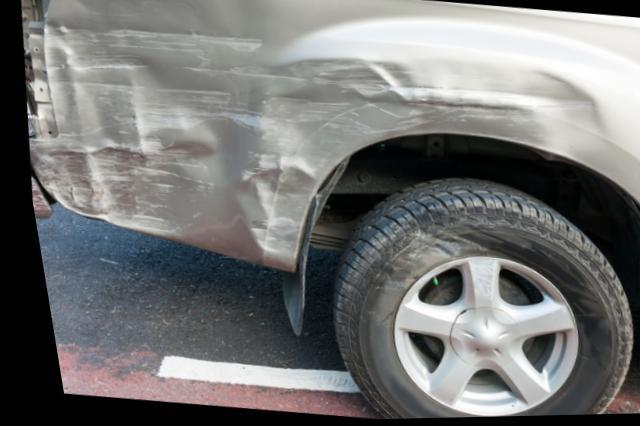dent: (24, 0, 594, 264)
no part: (21, 0, 53, 141)
scratch: (25, 182, 42, 212)
